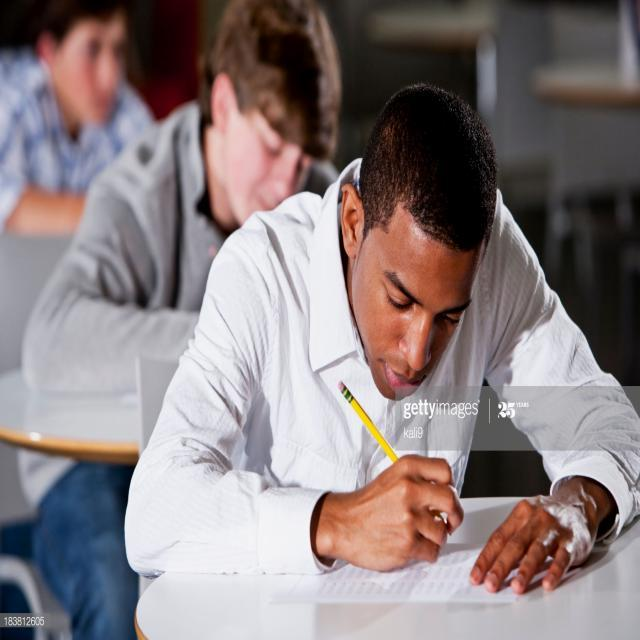good: (102, 67, 636, 596)
